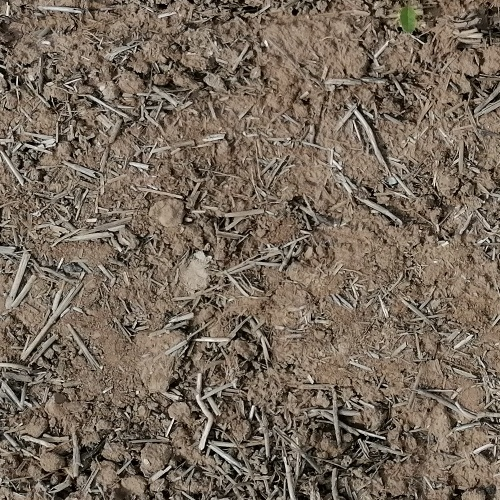beet: (396, 0, 419, 33)
